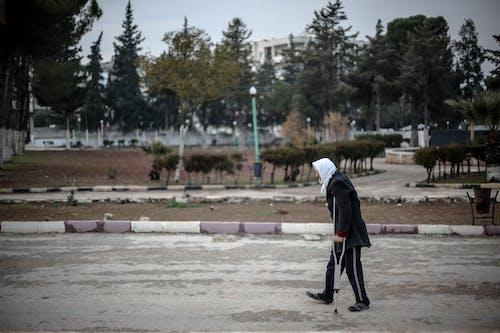crutches: (304, 158, 371, 316)
